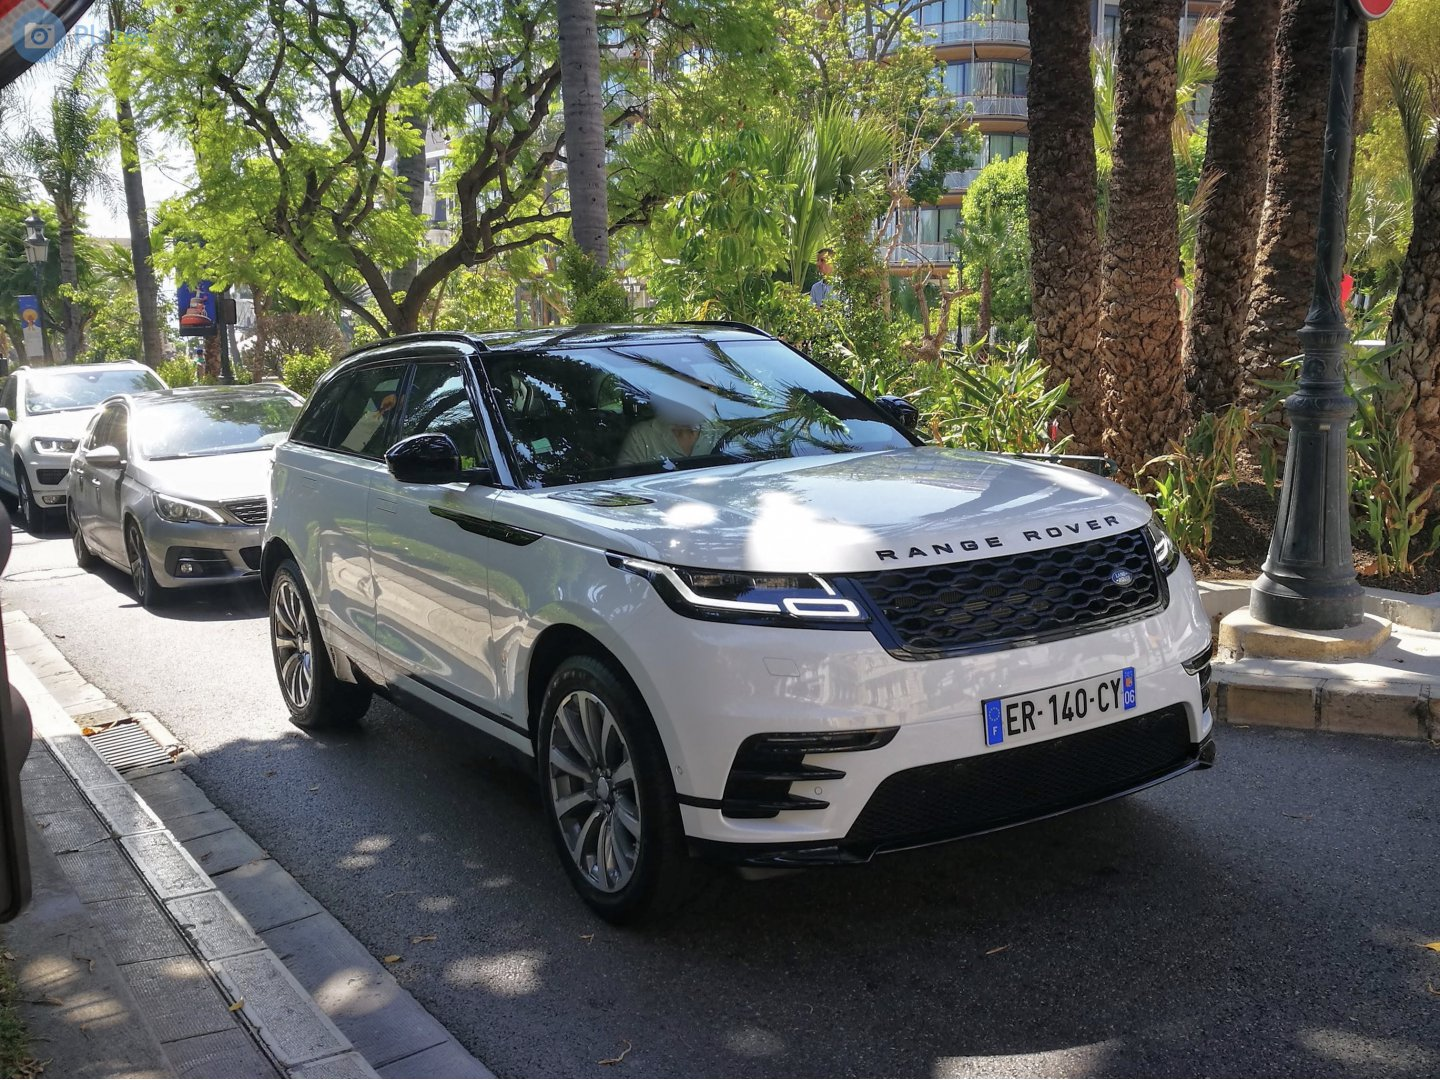licence plate: (976, 659, 1140, 759)
